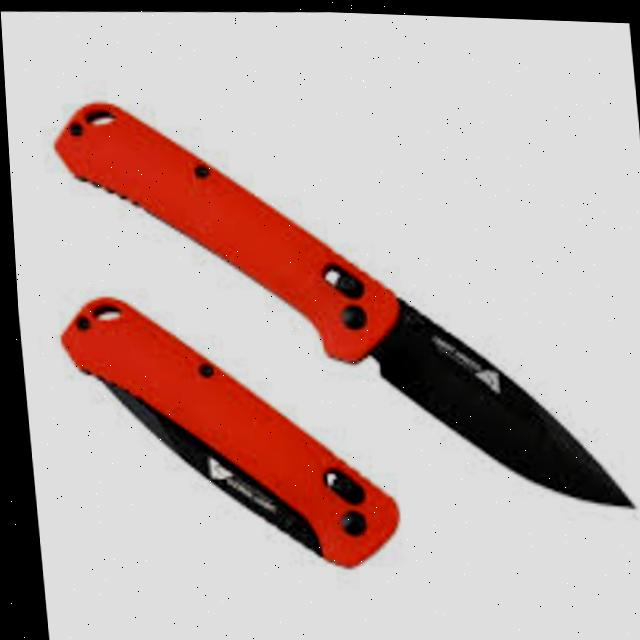knife: (48, 78, 632, 523)
